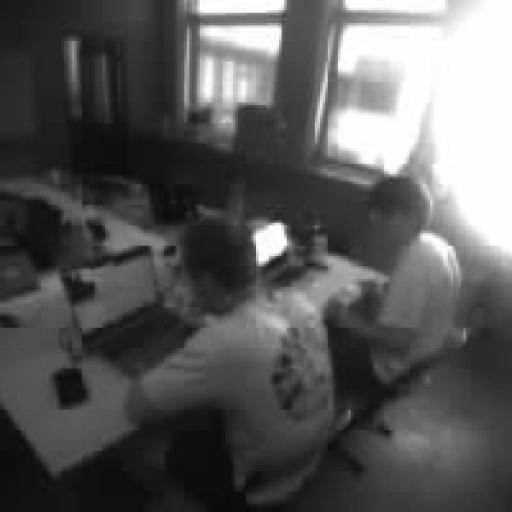human: (126, 218, 335, 511), (326, 177, 460, 394)
